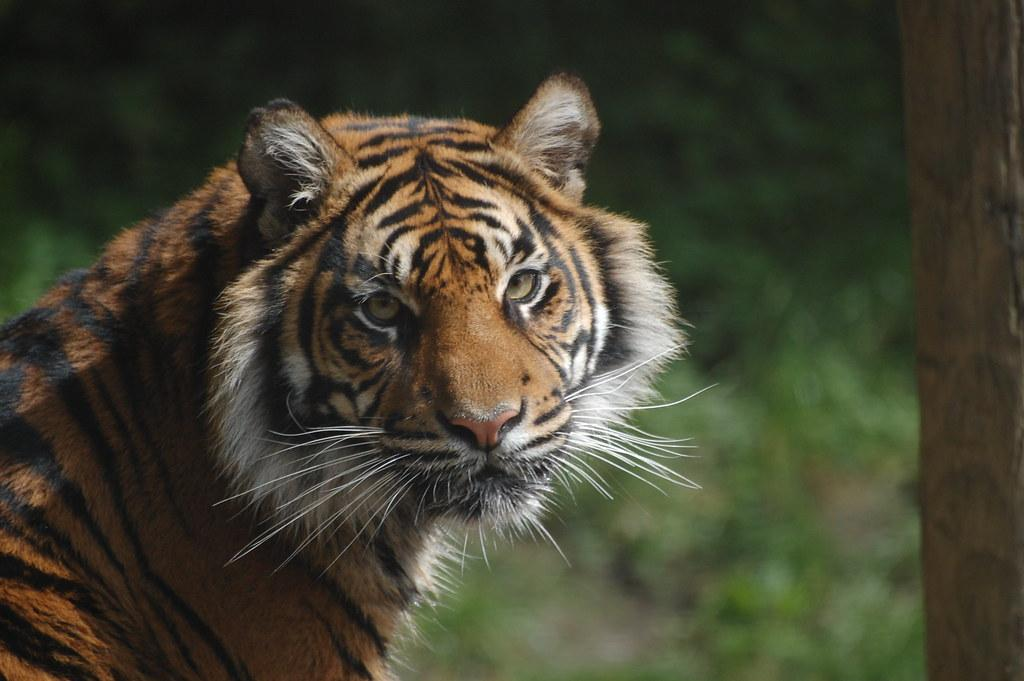tiger: (1, 72, 717, 680)
